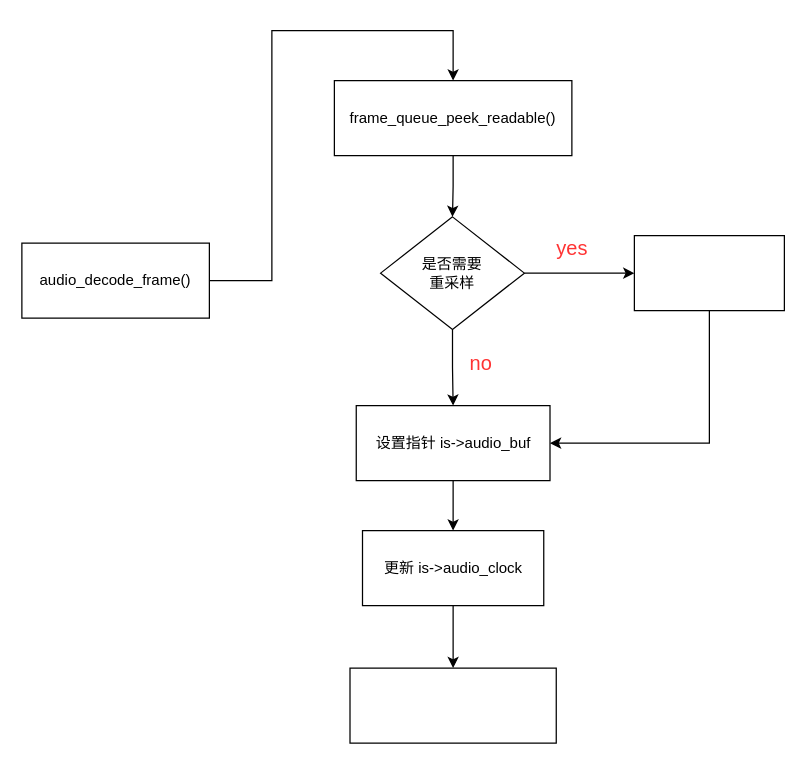
This 806x765 diagram has some shape labels left out. Here are the shapes that lost their labels. From the top down, the centre of each, then its label:
At point (708, 272): "swr_convert()".
At point (452, 705): "返回数据大小 resampled_data_size".
